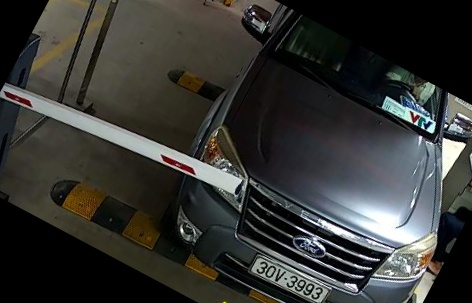plate: (248, 254, 332, 303)
